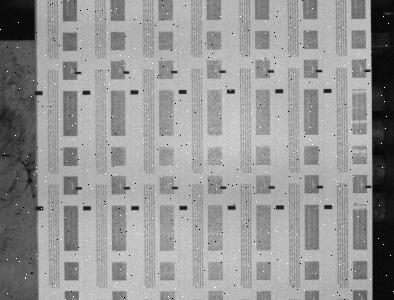backgroundclutter: (30, 271, 34, 274)
qblock: (179, 205, 188, 210), (227, 89, 235, 94), (130, 90, 139, 94), (324, 205, 333, 209), (83, 90, 90, 95), (35, 91, 43, 95), (36, 206, 44, 210), (324, 89, 332, 93), (276, 89, 284, 93), (179, 90, 187, 94), (83, 206, 91, 210), (276, 205, 284, 209), (228, 205, 236, 209), (131, 206, 139, 210)
smallqblock: (171, 70, 178, 74), (75, 71, 82, 74), (268, 70, 275, 73), (123, 186, 130, 189), (172, 186, 179, 189), (220, 186, 227, 189), (123, 71, 129, 74), (220, 70, 226, 73), (317, 69, 323, 72), (76, 187, 82, 190), (365, 69, 371, 72), (269, 186, 275, 189), (317, 185, 323, 188), (366, 185, 372, 188)
